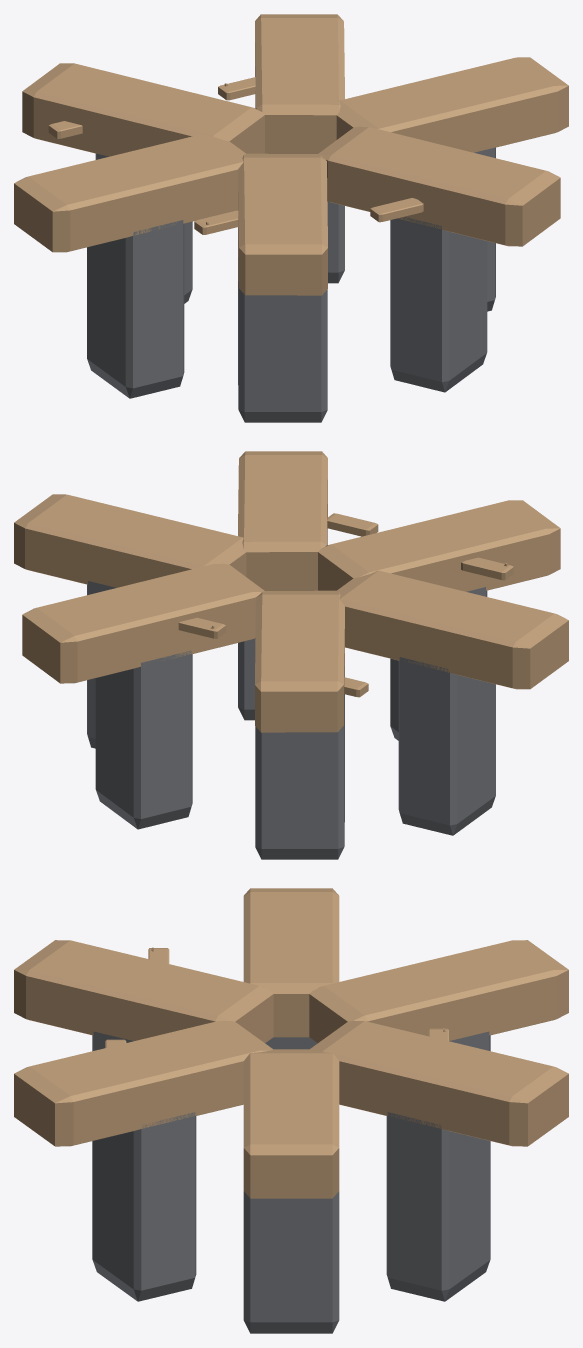
The model's file is b01_hexagonal_tree_bench.glb.
3 renders of one model, top to bottom at view 1: azimuth 30°, elevation 25°; view 2: azimuth 150°, elevation 25°; view 3: azimuth 270°, elevation 25°, orthographic. The views are drawn at different scales.
Parts seen in each view (by area): view 1: b01_hexagonal_tree_bench; view 2: b01_hexagonal_tree_bench; view 3: b01_hexagonal_tree_bench.
Part boxes in pixels (bbox=[...]): b01_hexagonal_tree_bench: bbox=[14, 14, 568, 422]; b01_hexagonal_tree_bench: bbox=[14, 451, 568, 859]; b01_hexagonal_tree_bench: bbox=[14, 888, 568, 1333].
Bounding box in the file's own units: 2.36 × 0.916 × 2.08.
